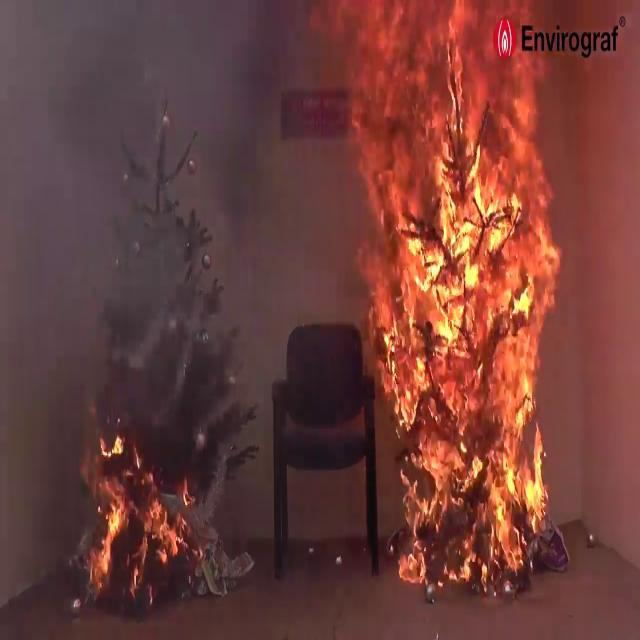Fire: (344, 75, 571, 558), (75, 430, 212, 622)
Smoke: (0, 3, 326, 377)
